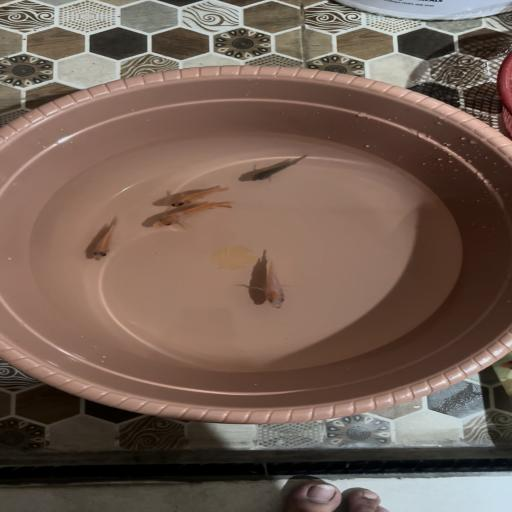nila: (150, 200, 240, 230), (254, 258, 298, 314), (244, 152, 314, 183), (84, 216, 124, 262), (167, 185, 235, 208)
